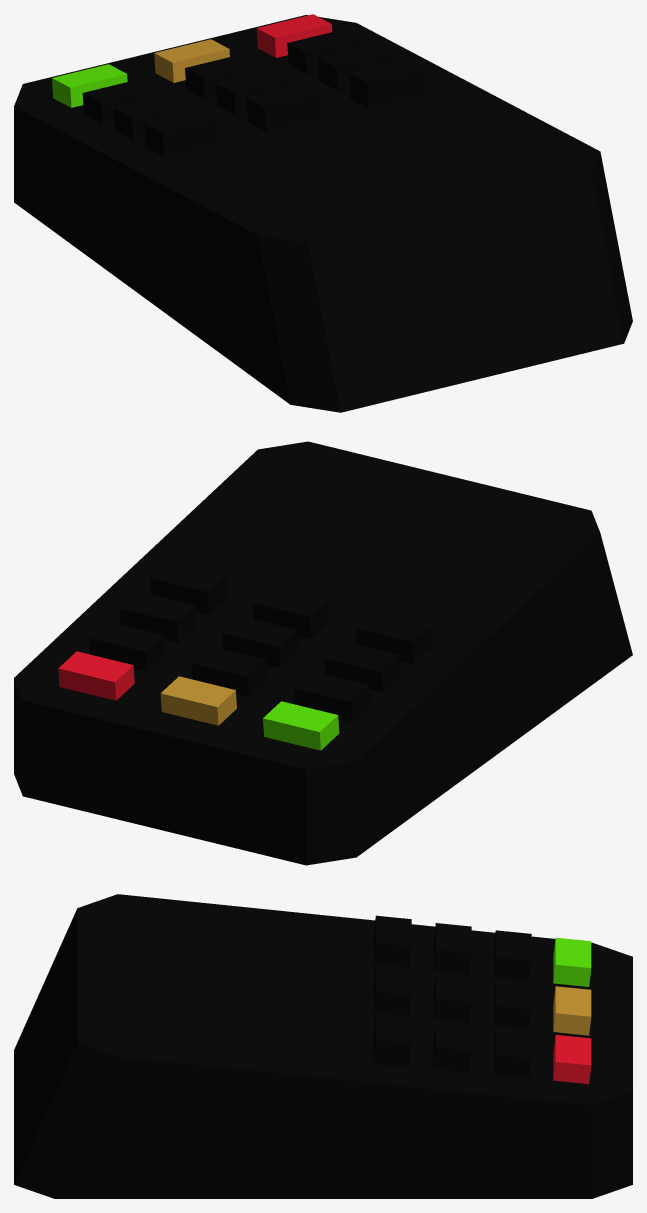
The model's file is cardreader.fbx.
3 renders of one model, top to bottom at view 1: azimuth 30°, elevation 25°; view 2: azimuth 150°, elevation 25°; view 3: azimuth 270°, elevation 25°, orthographic. The views are drawn at different scales.
Parts seen in each view (by area): view 1: cardreader; view 2: cardreader; view 3: cardreader.
Part boxes in pixels (box(x1,y1,x2,y2)): cardreader: box(14, 14, 632, 412); cardreader: box(14, 441, 632, 865); cardreader: box(14, 894, 632, 1198).
Bounding box in the file's own units: 0.1785 × 0.0727 × 0.287.
